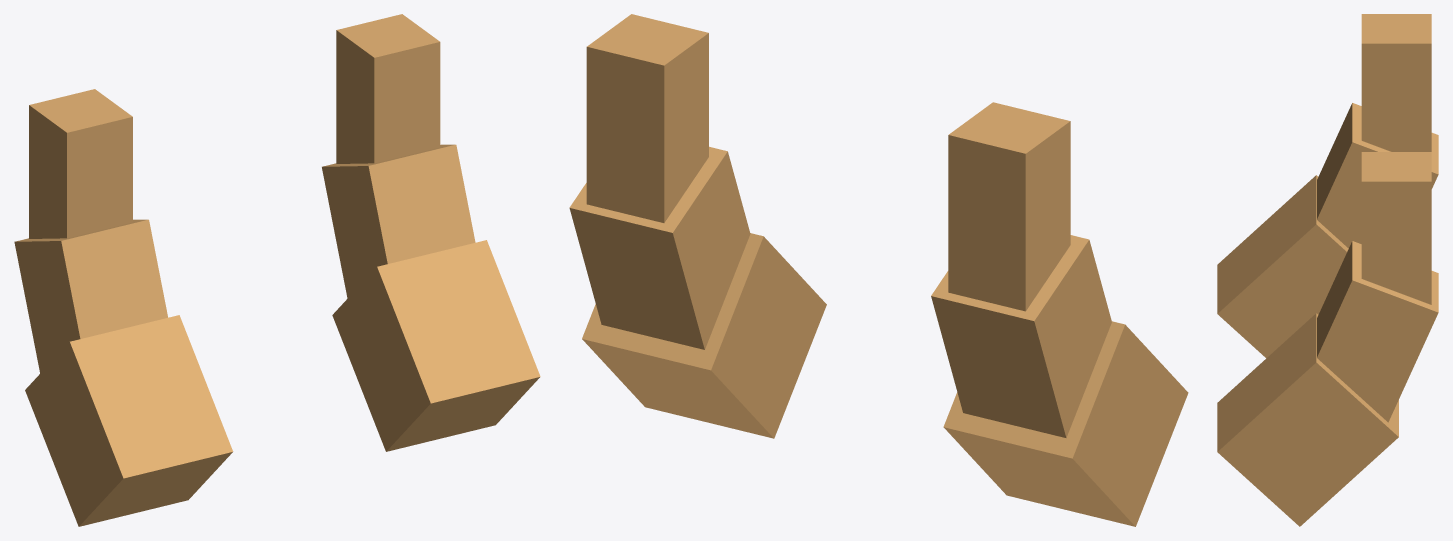
Rendered from halloween_horns_1.glb.
3 views of the same model, side by side, from view 1: azimuth 30°, elevation 25°; view 2: azimuth 150°, elevation 25°; view 3: azimuth 270°, elevation 25° (orthographic). The views are drawn at different scales.
Parts seen in each view (by area): view 1: cube.003, cube, cube.004, cube.001, cube.005, cube.002; view 2: cube.003, cube, cube.005, cube.002, cube.001, cube.004; view 3: cube.003, cube, cube.004, cube.005, cube.002, cube.001.
Part boxes in pixels (left/top/right/bottom): cube.003: left=332, top=240, right=540, bottom=451; cube: left=25, top=315, right=233, bottom=526; cube.004: left=322, top=144, right=475, bottom=298; cube.001: left=14, top=219, right=167, bottom=373; cube.005: left=336, top=14, right=440, bottom=163; cube.002: left=29, top=89, right=132, bottom=238; cube.003: left=582, top=233, right=826, bottom=438; cube: left=943, top=321, right=1188, bottom=526; cube.005: left=586, top=14, right=708, bottom=222; cube.002: left=948, top=102, right=1070, bottom=311; cube.001: left=931, top=235, right=1111, bottom=437; cube.004: left=569, top=146, right=750, bottom=349; cube.003: left=1217, top=313, right=1398, bottom=526; cube: left=1217, top=175, right=1348, bottom=358; cube.004: left=1317, top=241, right=1438, bottom=422; cube.005: left=1361, top=152, right=1431, bottom=304; cube.002: left=1361, top=14, right=1431, bottom=151; cube.001: left=1317, top=103, right=1438, bottom=248.
Bounding box in the file's own units: 0.5938 × 0.4954 × 0.2962.
1 material, 1 textured.
